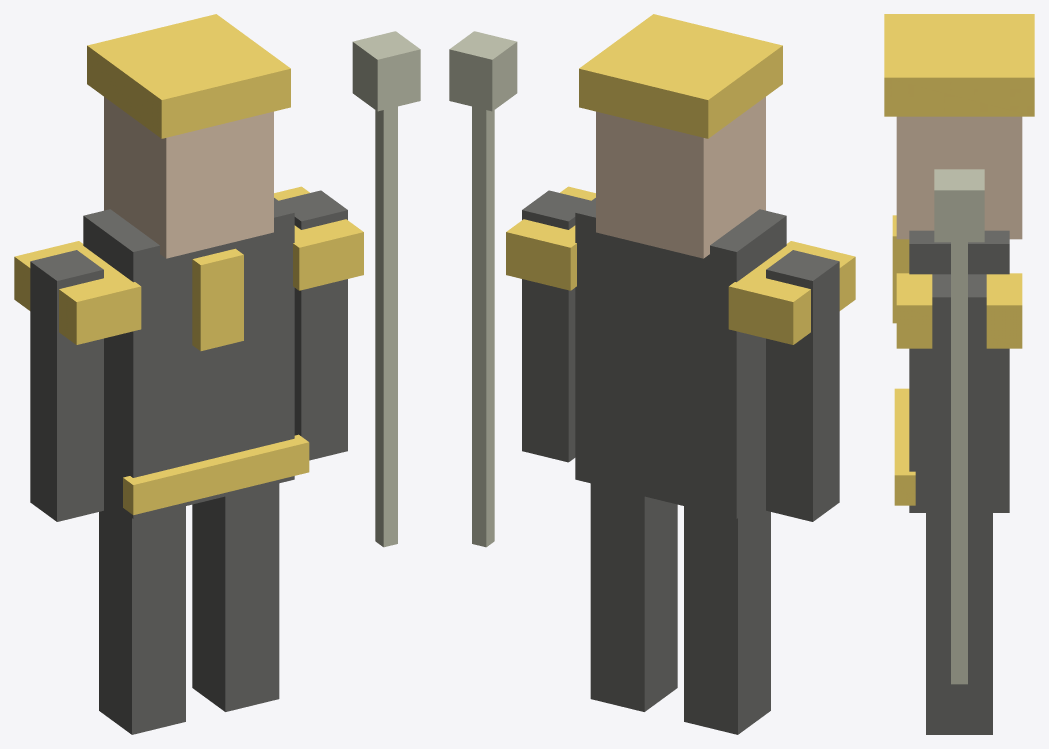
The model's file is 06_edda_latchward_captain_at_ore.glb.
3 renders of one model, left to right at view 1: azimuth 30°, elevation 25°; view 2: azimuth 150°, elevation 25°; view 3: azimuth 270°, elevation 25°, orthographic.
Visible parts, largest first — view 1: Edda Latchward, Captain at Ore; view 2: Edda Latchward, Captain at Ore; view 3: Edda Latchward, Captain at Ore.
Part boxes in pixels (box(x1,y1,x2,y2)): Edda Latchward, Captain at Ore: box(14, 14, 420, 734); Edda Latchward, Captain at Ore: box(449, 14, 855, 734); Edda Latchward, Captain at Ore: box(884, 14, 1034, 734).
Bounding box in the file's own units: 0.9862 × 1.67 × 0.3498.
